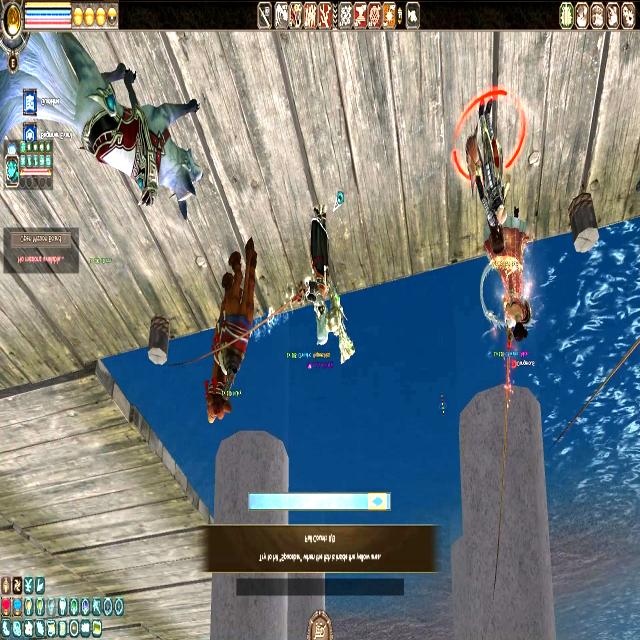fishes: (370, 495, 384, 508)
